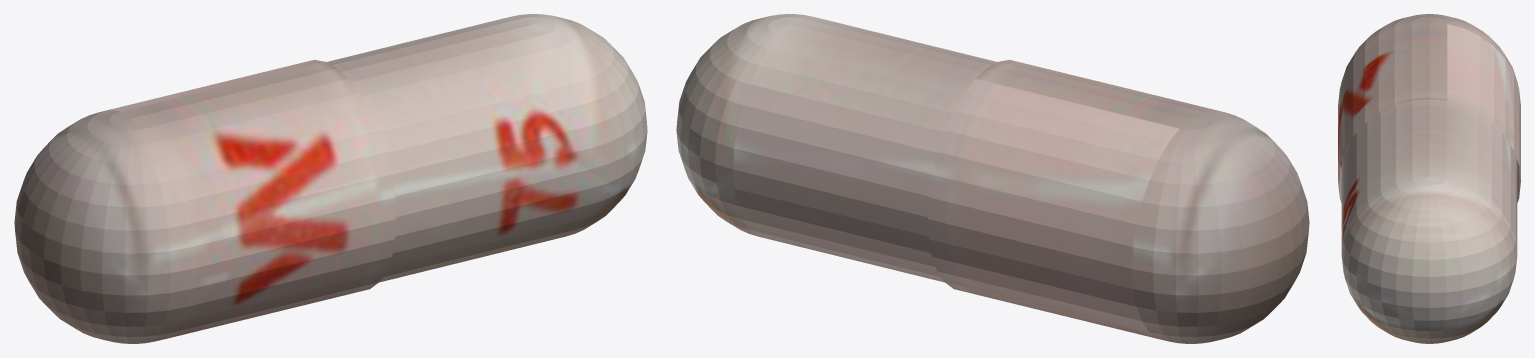
3 renders of one model, left to right at view 1: azimuth 30°, elevation 25°; view 2: azimuth 150°, elevation 25°; view 3: azimuth 270°, elevation 25°, orthographic. The views are drawn at different scales.
Parts seen in each view (by area): view 1: 球體; view 2: 球體; view 3: 球體.
Boxes of the visible parts, <box> form: 球體: <box>14,14,647,343</box>; 球體: <box>676,14,1309,343</box>; 球體: <box>1338,14,1520,343</box>.
Bounding box in the file's own units: 2.93 × 1 × 1.
1 material, 1 textured.
